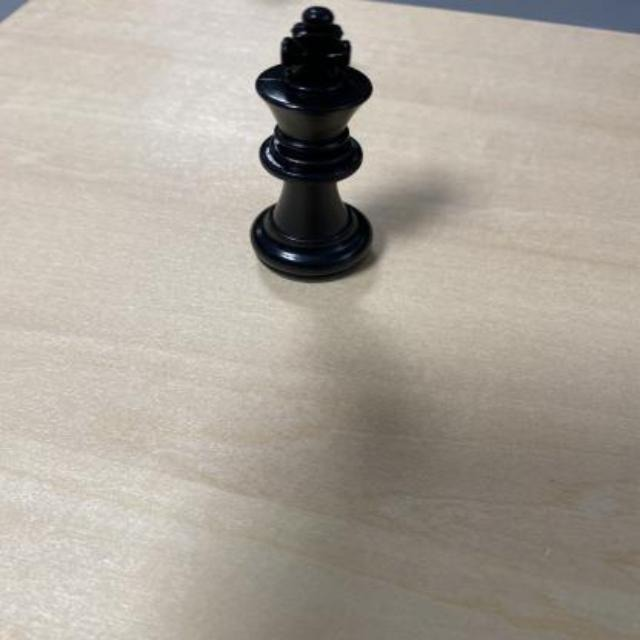black-king: (251, 6, 375, 282)
